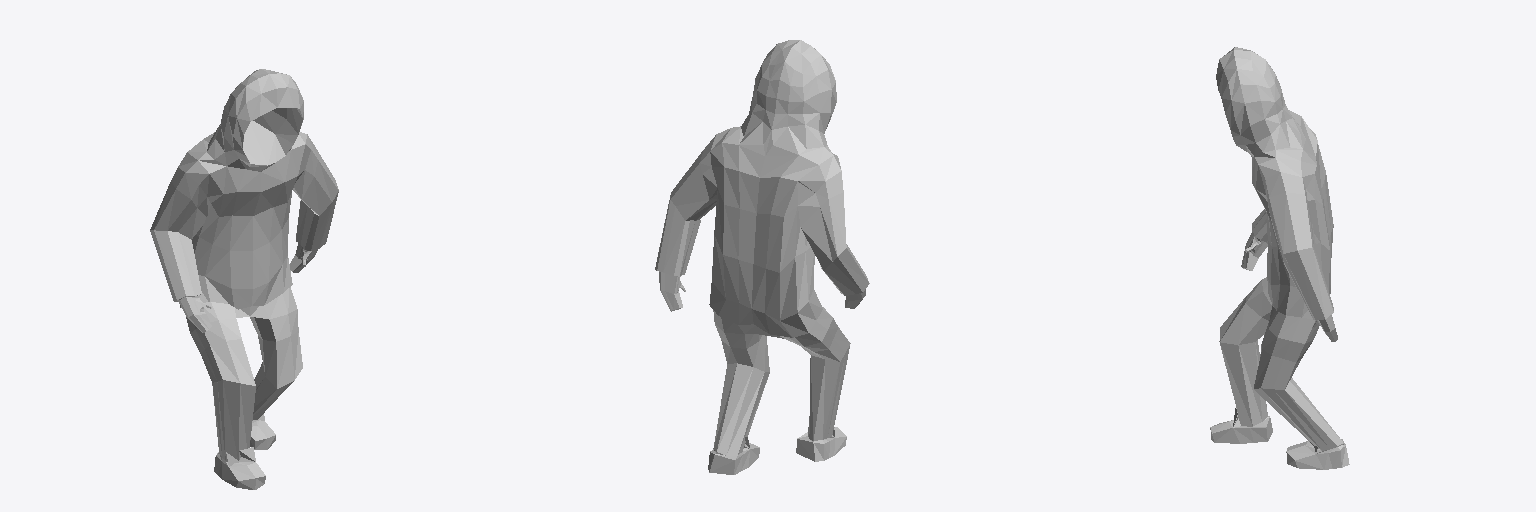
File: Shadowmanv_000002.obj
3 views of the same model, side by side, from view 1: azimuth 30°, elevation 25°; view 2: azimuth 150°, elevation 25°; view 3: azimuth 270°, elevation 25° (orthographic).
Parts seen in each view (by area): view 1: Cube.000; view 2: Cube.000; view 3: Cube.000.
Part boxes in pixels (x1,y1,x2,y2): Cube.000: (150,69,338,489); Cube.000: (655,40,869,474); Cube.000: (1210,47,1349,469).
Bounding box in the file's own units: 5.16 × 10.98 × 3.44.